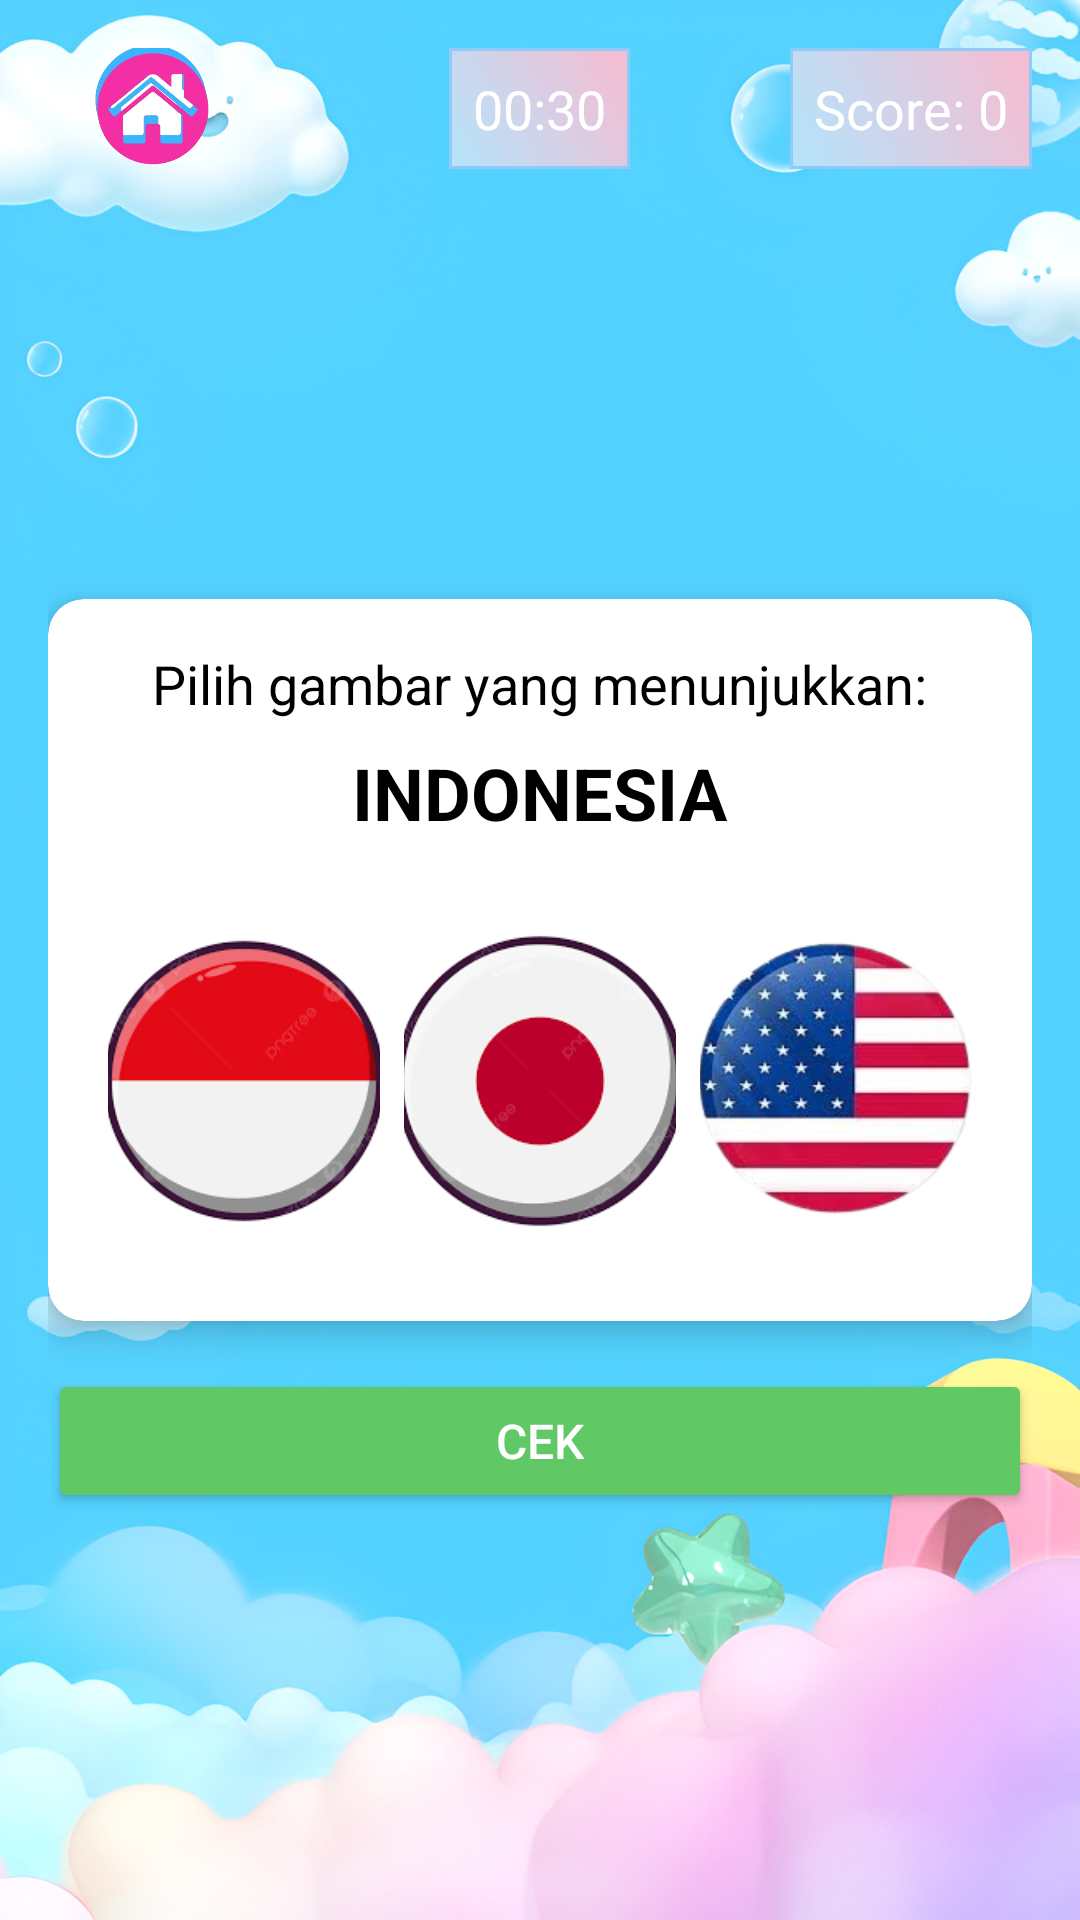

Icons on this 1080*1920 Android screen, each with its box as [x1,y1,x2,y2]:
Bendera AS: [700,943,970,1213]
Bendera Jepang: [404,935,676,1227]
